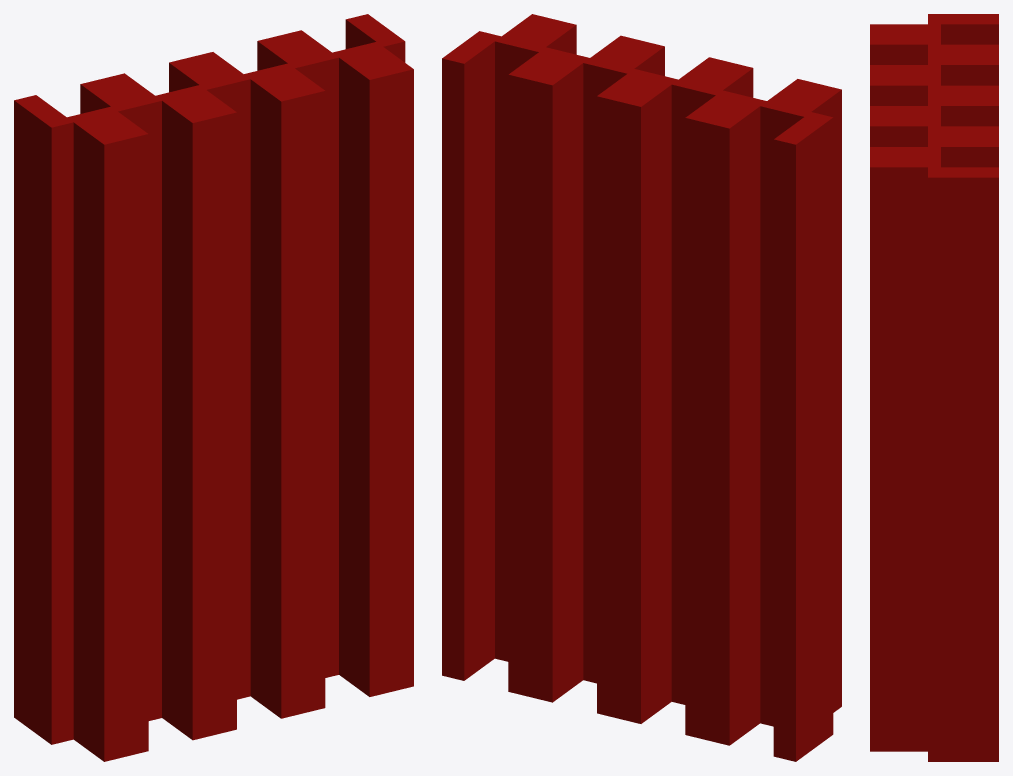
File: long.obj
The picture shows the model from 3 angles, left to right: view 1: azimuth 30°, elevation 25°; view 2: azimuth 150°, elevation 25°; view 3: azimuth 270°, elevation 25°; orthographic projection. The views are drawn at different scales.
Parts seen in each view (by area): view 1: long; view 2: long; view 3: long.
Part boxes in pixels (x1=…): long: x1=14, y1=14, x2=413, y2=761; long: x1=442, y1=14, x2=841, y2=761; long: x1=870, y1=14, x2=998, y2=761.
Bounding box in the file's own units: 300 × 500 × 100.
